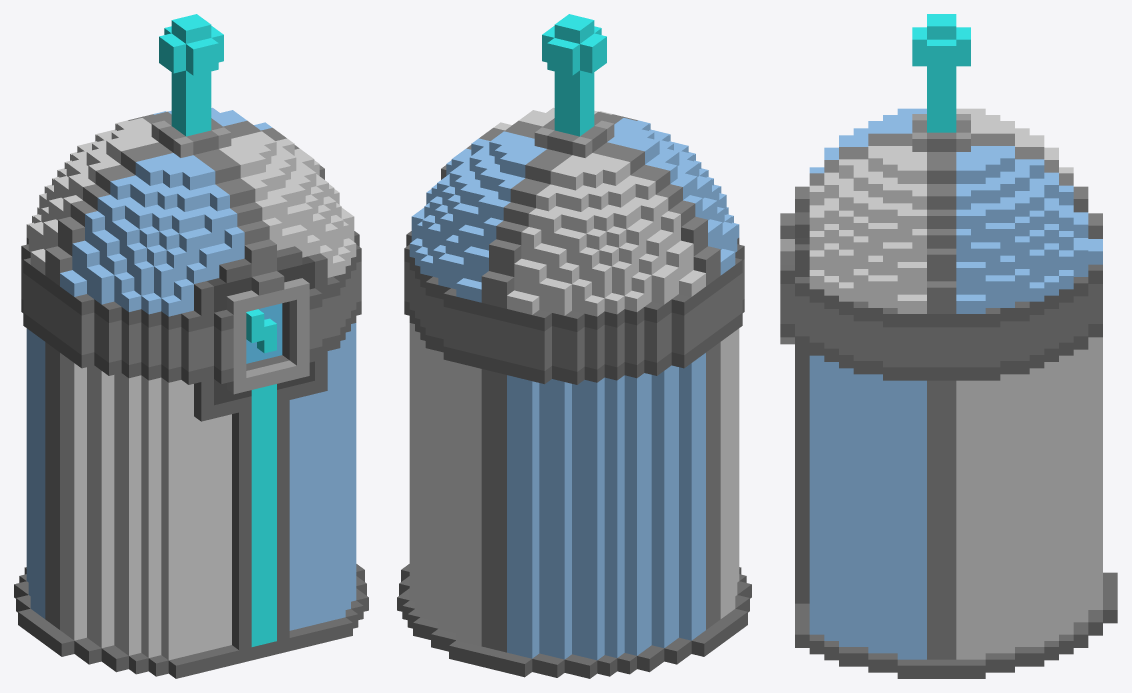
Rendered from PowerModule.obj.
The picture shows the model from 3 angles, left to right: view 1: azimuth 30°, elevation 25°; view 2: azimuth 150°, elevation 25°; view 3: azimuth 270°, elevation 25°; orthographic projection.
Size of the model in its own units: 24 by 44 by 23.
Materials: 1 (1 with a texture image).
